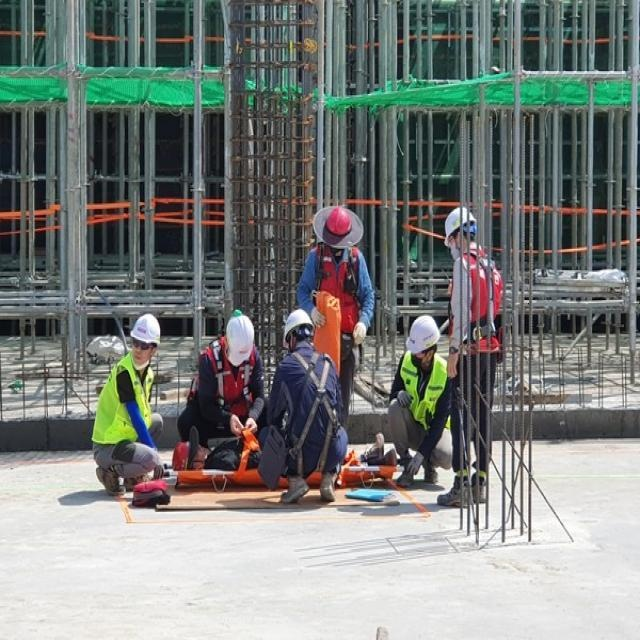Arnes_seguridad: (287, 348, 342, 488), (465, 248, 505, 368)
